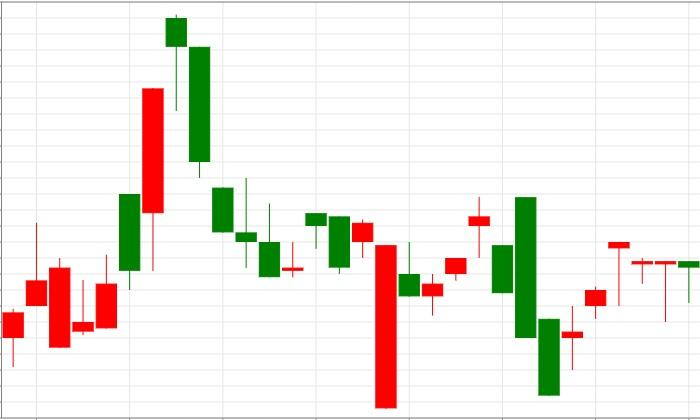hanging_man_fall: (71, 15, 187, 334)
